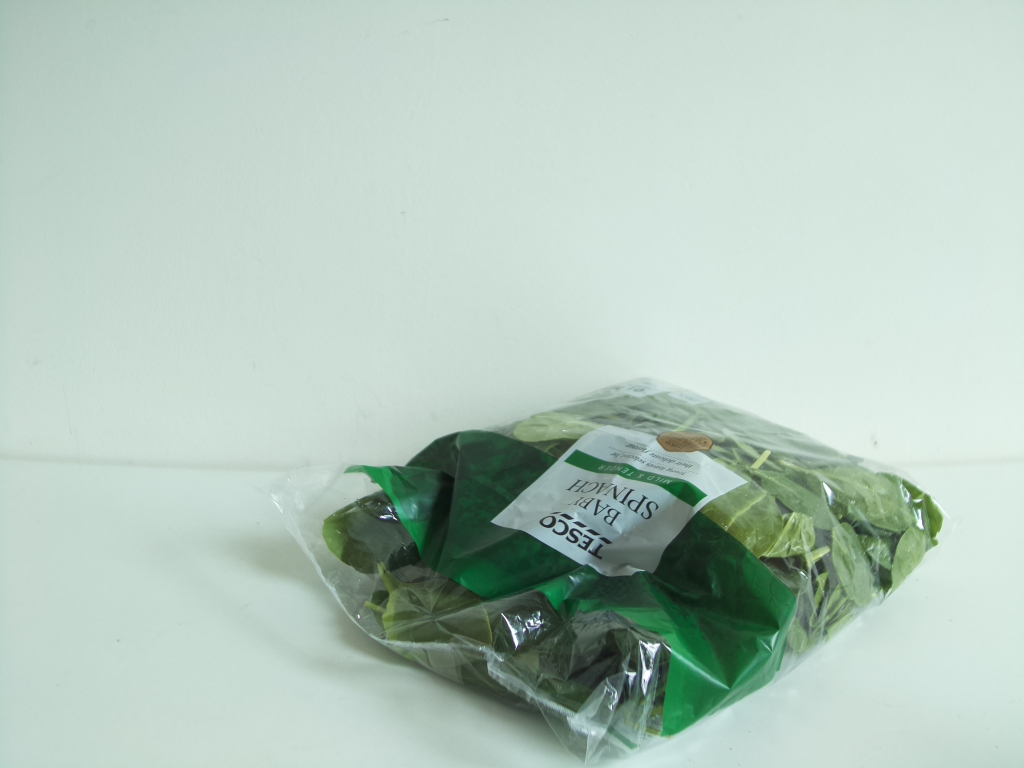salad: (324, 377, 942, 761)
